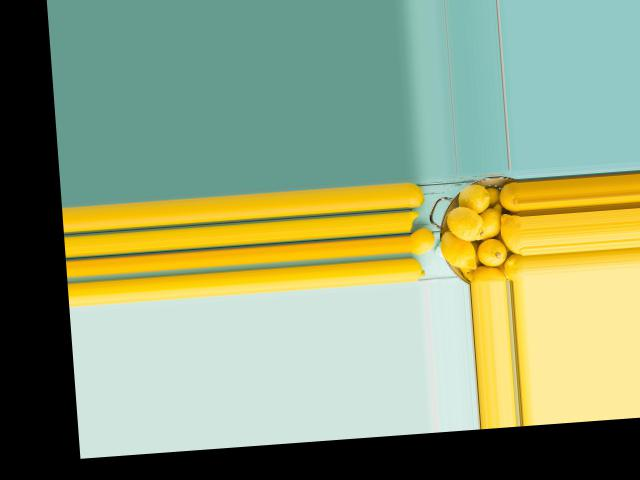lemon: (503, 248, 525, 280)
